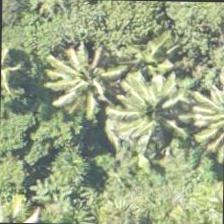Kelapa_Sawit: (121, 62, 213, 154), (32, 38, 124, 130)
